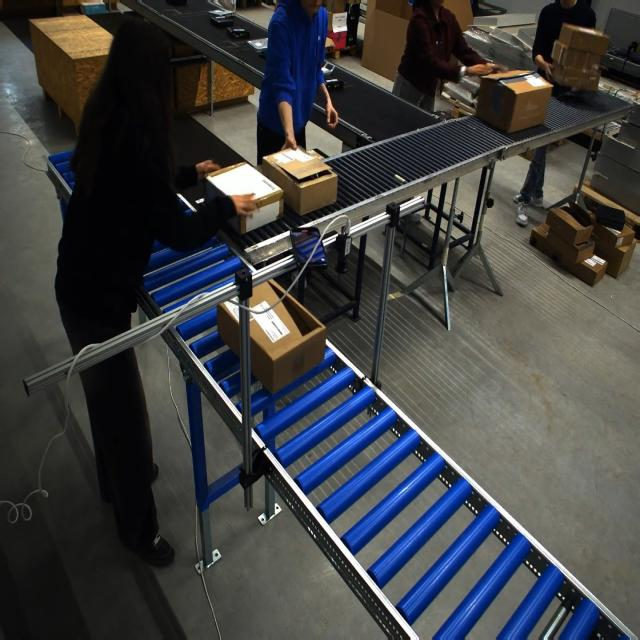box: (218, 280, 324, 395), (204, 162, 281, 236), (262, 145, 336, 216)
product: (208, 9, 235, 20), (226, 27, 249, 38), (325, 78, 344, 91), (258, 50, 267, 60)
